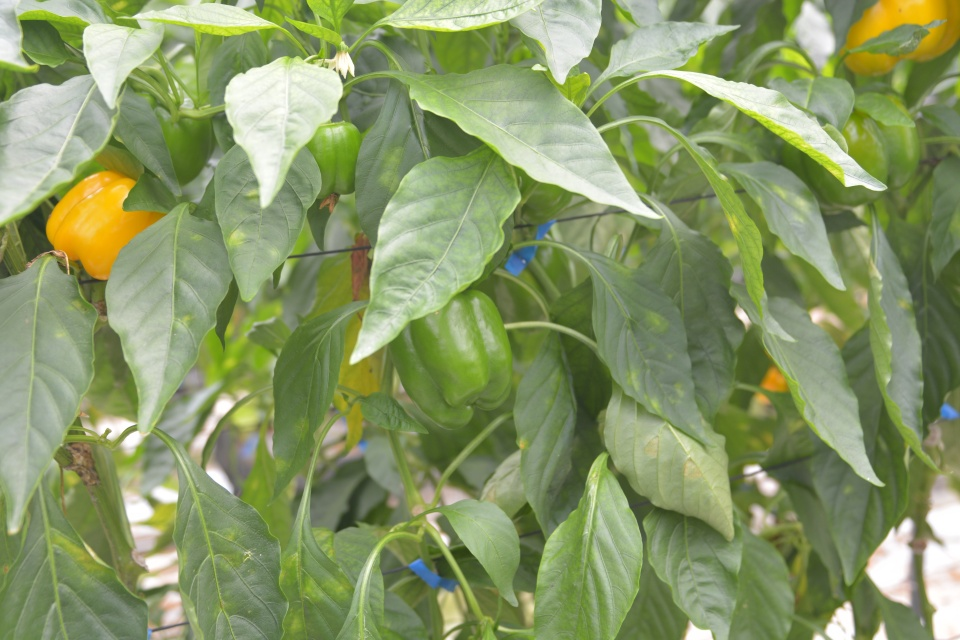flower: (318, 49, 356, 80)
fruit: (386, 287, 515, 432), (779, 88, 920, 219), (42, 166, 168, 283), (110, 89, 217, 187), (836, 0, 960, 80)
immature: (305, 118, 363, 200)
